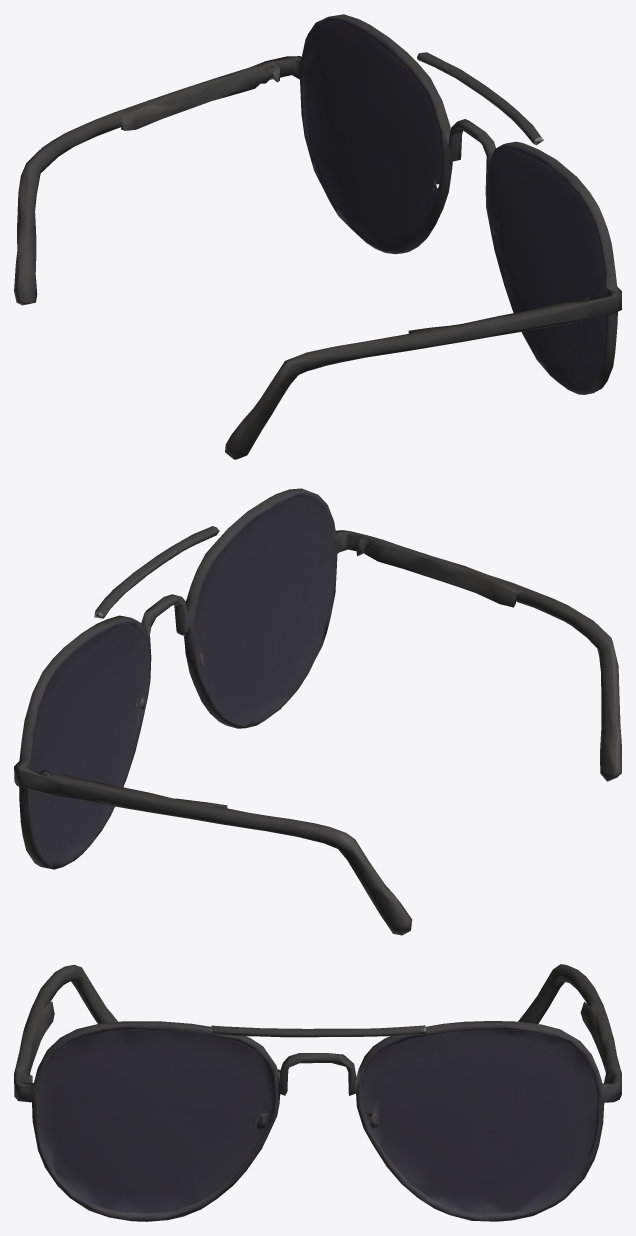
Rendered from prop_glasses-aviator_d423ef.glb.
3 renders of one model, top to bottom at view 1: azimuth 30°, elevation 25°; view 2: azimuth 150°, elevation 25°; view 3: azimuth 270°, elevation 25°, orthographic. The views are drawn at different scales.
Visible parts, largest first — view 1: tripo_node_29690c86-e4b3-40ea-babb-bd98b7c197d5; view 2: tripo_node_29690c86-e4b3-40ea-babb-bd98b7c197d5; view 3: tripo_node_29690c86-e4b3-40ea-babb-bd98b7c197d5.
Part boxes in pixels (left/top/right/bottom): tripo_node_29690c86-e4b3-40ea-babb-bd98b7c197d5: left=14, top=14, right=621, bottom=459; tripo_node_29690c86-e4b3-40ea-babb-bd98b7c197d5: left=14, top=488, right=621, bottom=935; tripo_node_29690c86-e4b3-40ea-babb-bd98b7c197d5: left=14, top=964, right=621, bottom=1221.
Bounding box in the file's own units: 0.6562 × 0.3633 × 0.9998.
1 material, 1 textured.
